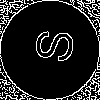S: (25, 25, 75, 65)
